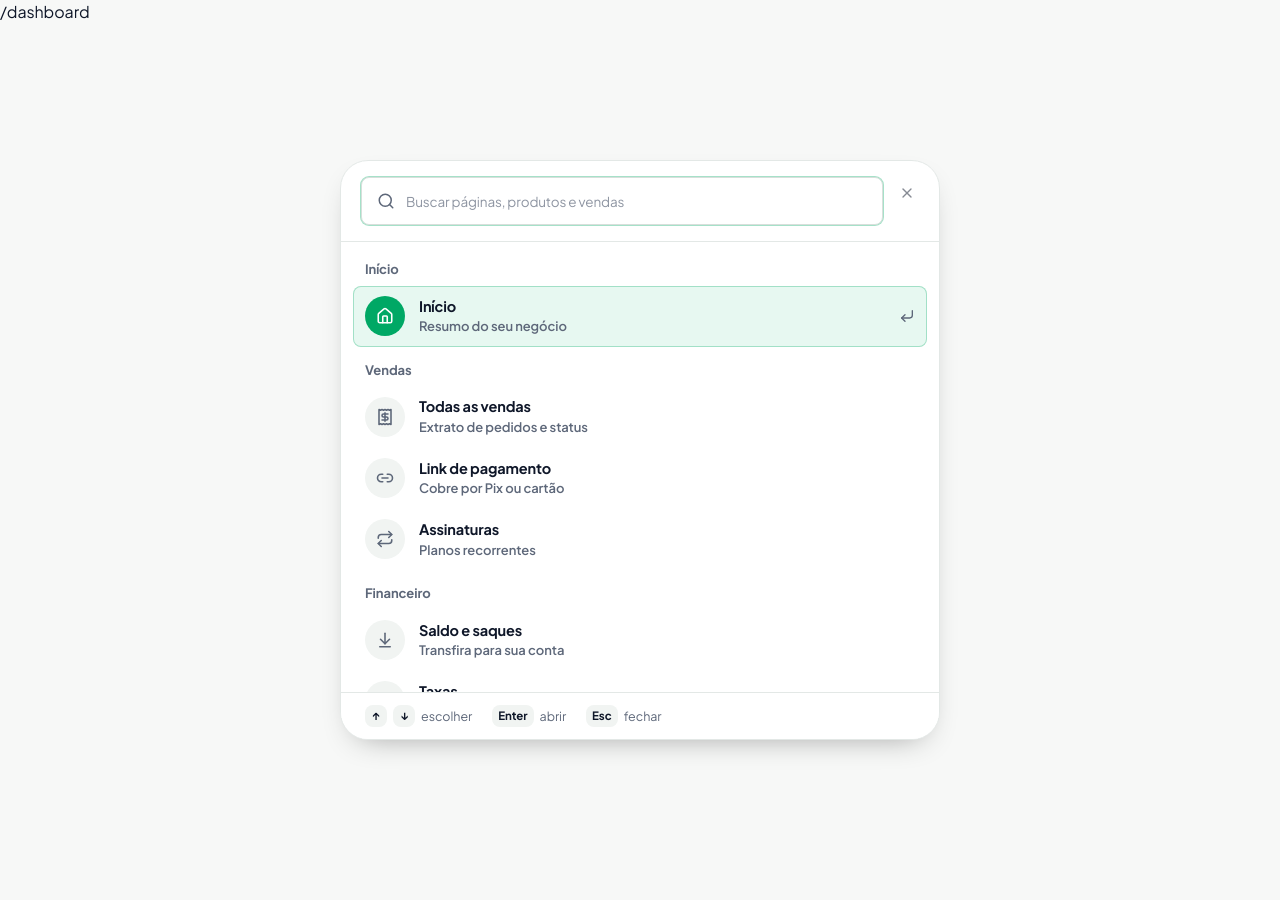
Test: diálogo de busca › com uma letra só mostra páginas e não consulta o servidor
The image size is (1280, 900).
Type "m" into the dropdown at (622, 201), box [361, 177, 883, 225]
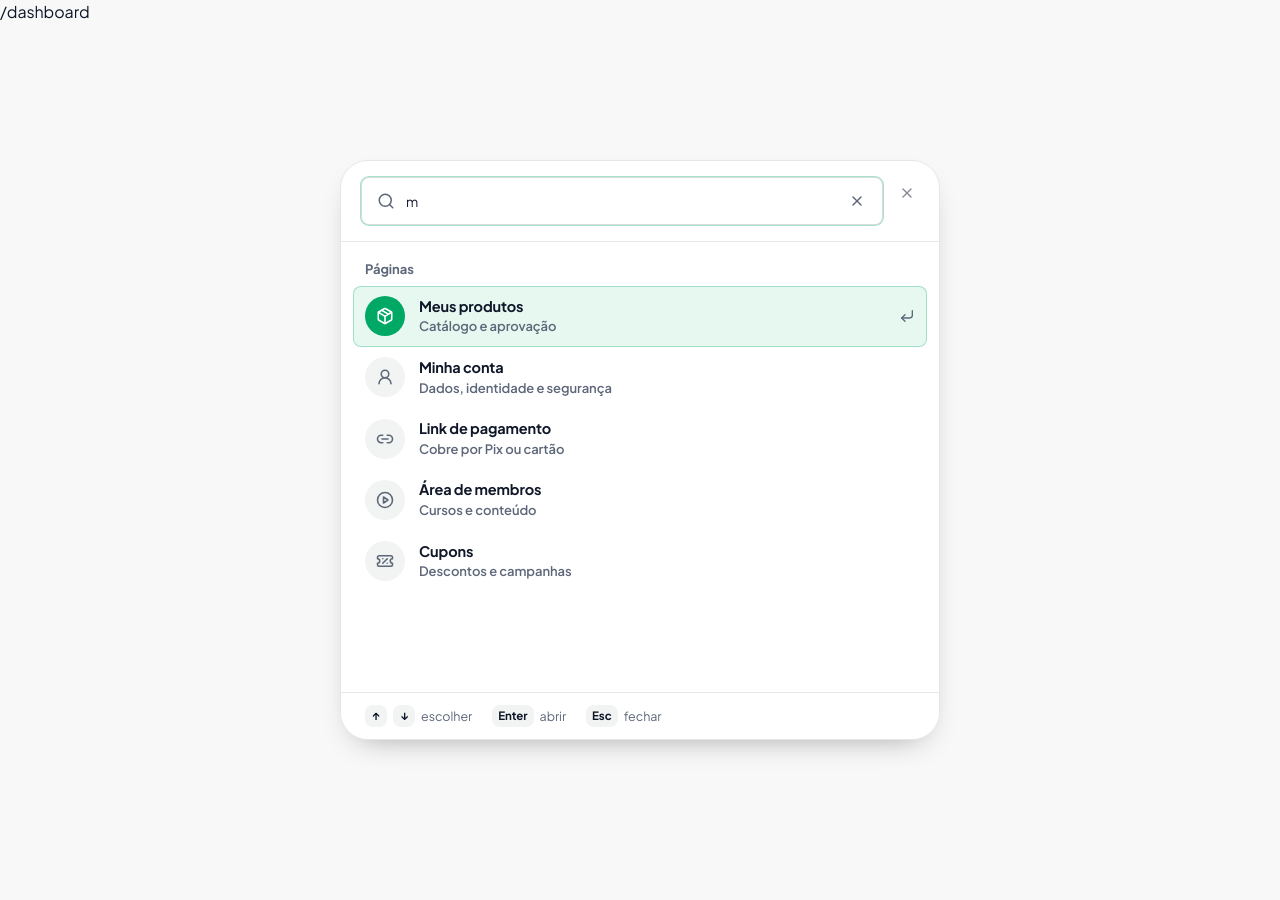
Result: the option "Meus produtos Catálogo e aprovação" is shown at [353, 286, 927, 347]
